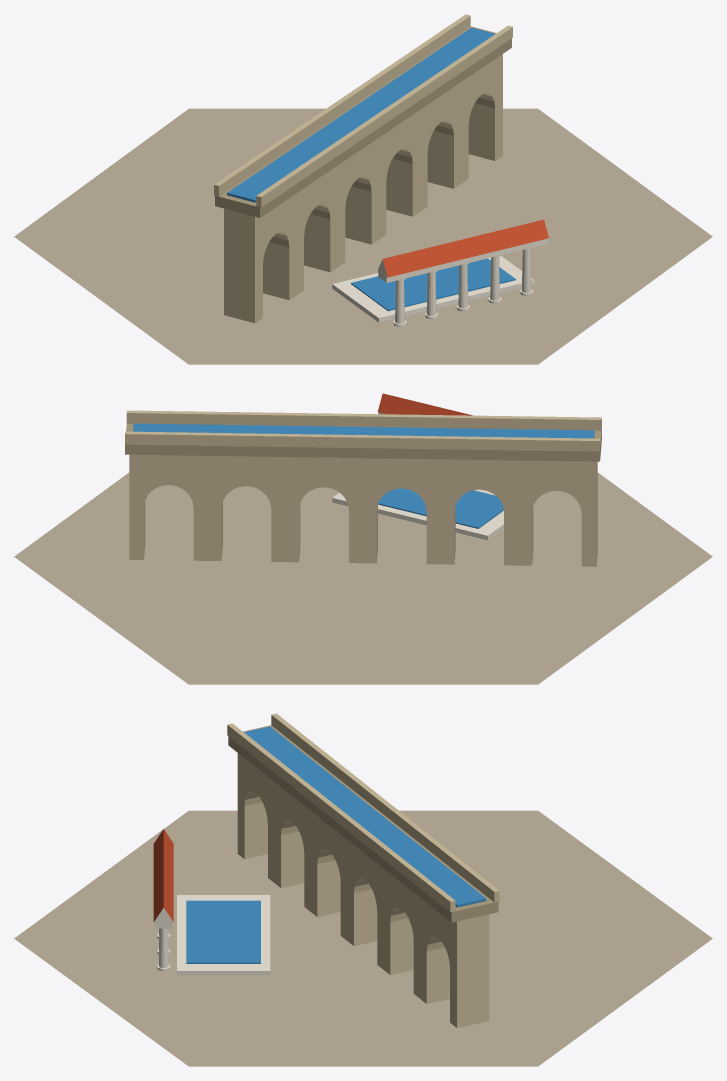
Rendered from district_bath_1.fbx.
3 views of the same model, one above another, from view 1: azimuth 30°, elevation 25°; view 2: azimuth 150°, elevation 25°; view 3: azimuth 270°, elevation 25° (orthographic).
Parts seen in each view (by area): view 1: district_bath_1; view 2: district_bath_1; view 3: district_bath_1.
Part boxes in pixels (x1,y1,x2,y2): district_bath_1: [14, 14, 712, 364]; district_bath_1: [14, 393, 712, 684]; district_bath_1: [14, 713, 712, 1066].
Bounding box in the file's own units: 182 × 43.4 × 210.
